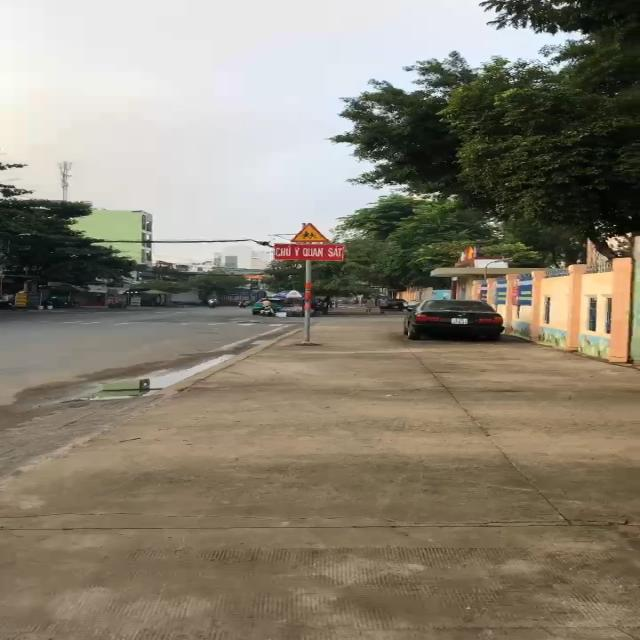Bien bao tre em: (290, 220, 330, 243)
